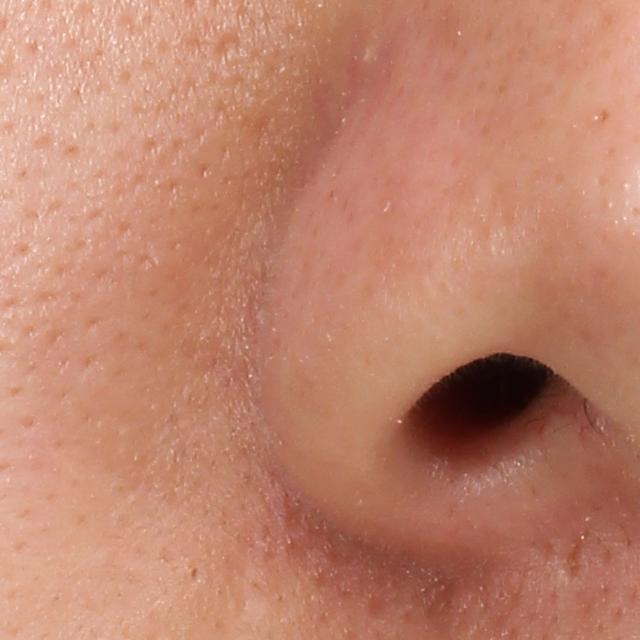atrophic_scar: (210, 28, 250, 65), (564, 530, 581, 585)
